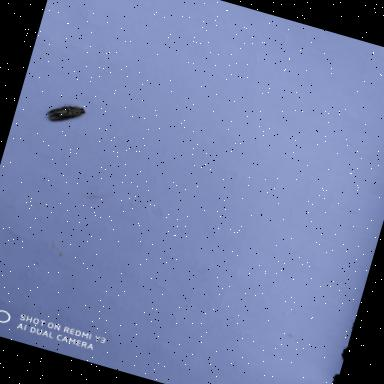pbw: (44, 96, 89, 131)
